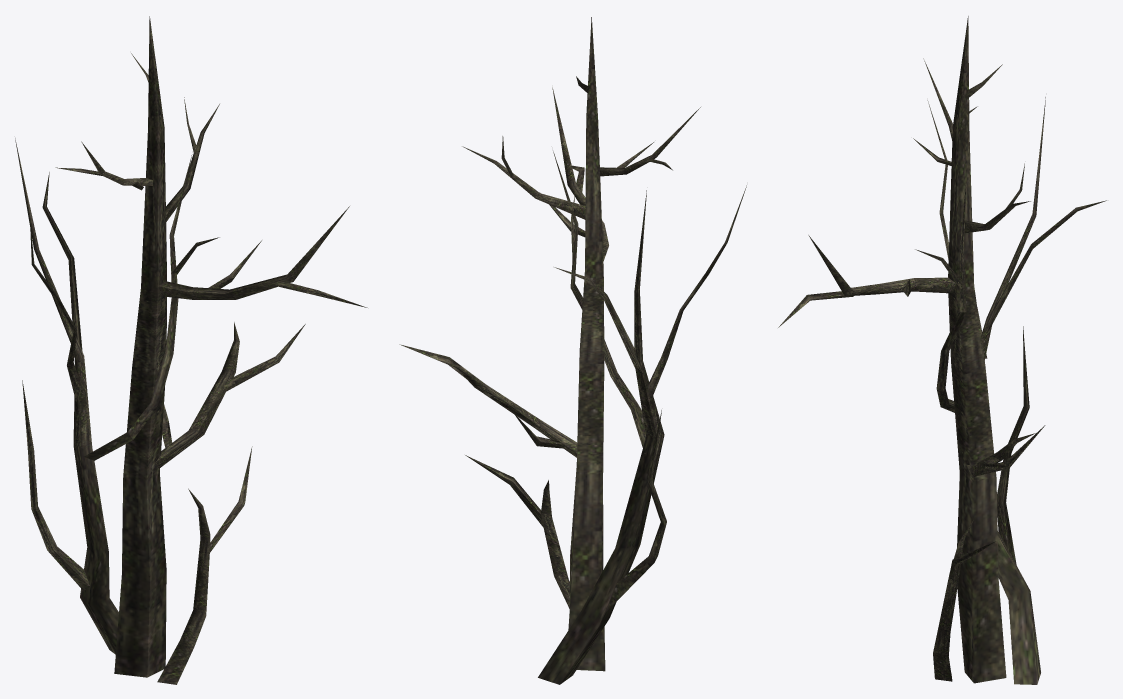
The model's file is S_Tree_Yellow010.FBX.
3 views of the same model, side by side, from view 1: azimuth 30°, elevation 25°; view 2: azimuth 150°, elevation 25°; view 3: azimuth 270°, elevation 25° (orthographic). The views are drawn at different scales.
Visible parts, largest first — view 1: S_Tree_Yellow010; view 2: S_Tree_Yellow010; view 3: S_Tree_Yellow010.
Boxes of the visible parts, left/top/right/bottom form: S_Tree_Yellow010: left=15, top=16, right=367, bottom=684; S_Tree_Yellow010: left=399, top=17, right=746, bottom=684; S_Tree_Yellow010: left=778, top=16, right=1106, bottom=684.
Size of the model in its own units: 268 by 242 by 533.
